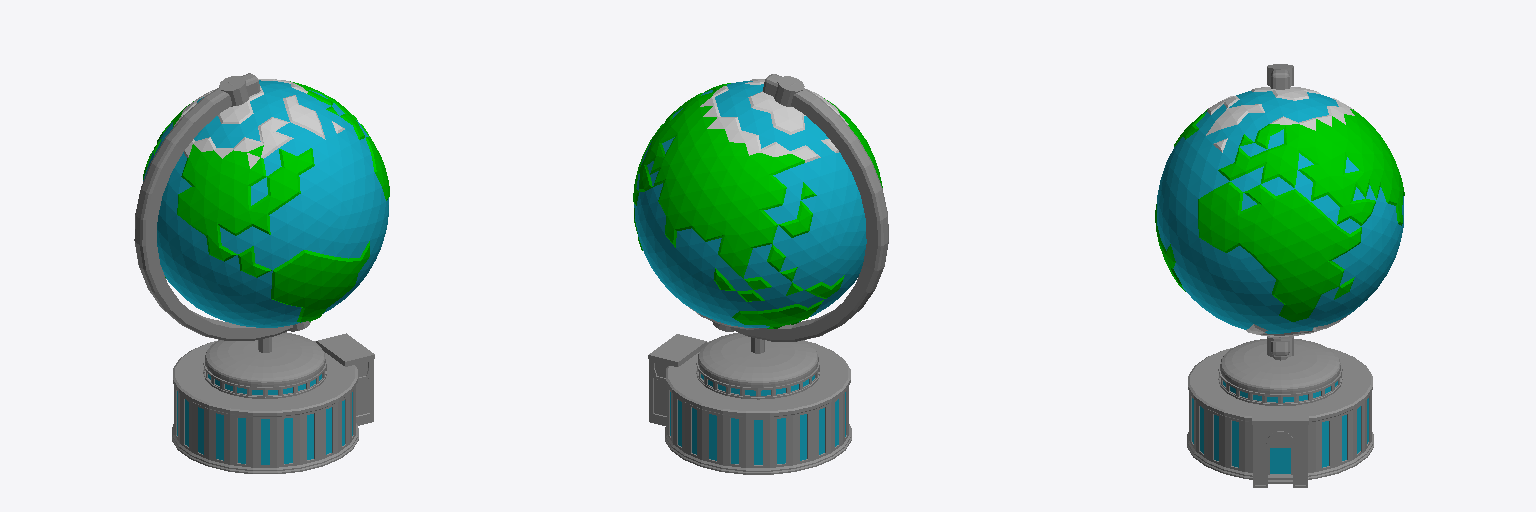
Rendered from Globe.obj.
3 views of the same model, side by side, from view 1: azimuth 30°, elevation 25°; view 2: azimuth 150°, elevation 25°; view 3: azimuth 270°, elevation 25° (orthographic).
Visible parts, largest first — view 1: glove_Icosphere.001, Building_Cylinder.001, curve_Circle, Stand_Cylinder.008, Entrance_Cube, Stand_Windows_Cylinder, clamp_Cylinder.005; view 2: glove_Icosphere.001, Building_Cylinder.001, curve_Circle, Stand_Cylinder.008, Entrance_Cube, Stand_Windows_Cylinder, clamp_Cylinder.005; view 3: glove_Icosphere.001, Building_Cylinder.001, Stand_Cylinder.008, Entrance_Cube, Stand_Windows_Cylinder, curve_Circle, clamp_Cylinder.005.
Part boxes in pixels (x1,y1,x2,y2): glove_Icosphere.001: (143,79,389,327); Building_Cylinder.001: (172,341,358,473); curve_Circle: (134,73,292,340); Stand_Cylinder.008: (205,332,325,386); Entrance_Cube: (316,333,374,425); Stand_Windows_Cylinder: (203,356,326,398); clamp_Cylinder.005: (219,76,310,331); glove_Icosphere.001: (633,79,882,329); Building_Cylinder.001: (665,341,851,474); curve_Circle: (730,74,888,341); Stand_Cylinder.008: (698,333,818,387); Entrance_Cube: (648,334,706,425); Stand_Windows_Cylinder: (696,356,819,399); clamp_Cylinder.005: (712,76,804,331); glove_Icosphere.001: (1155,87,1404,336); Building_Cylinder.001: (1187,348,1373,479); Stand_Cylinder.008: (1220,339,1340,393); Entrance_Cube: (1252,407,1308,487); Stand_Windows_Cylinder: (1218,362,1342,405); curve_Circle: (1271,70,1289,355); clamp_Cylinder.005: (1267,64,1293,356).
Size of the model in its own units: 4.4 by 6.45 by 4.02.